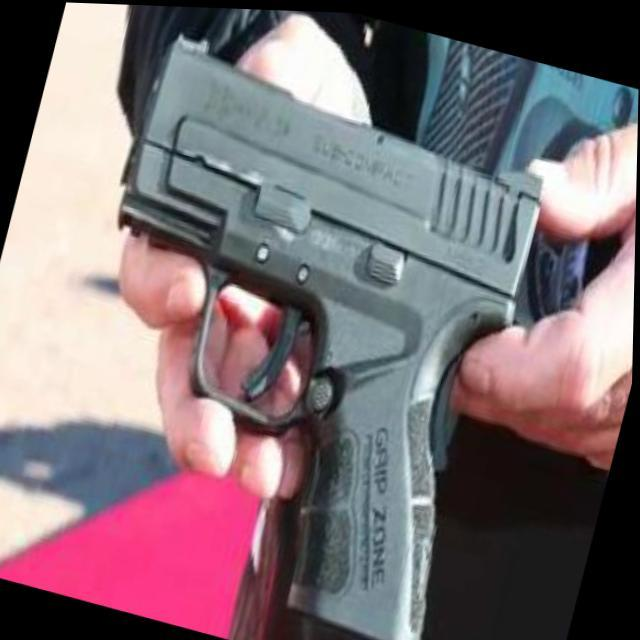weapon: (1, 4, 581, 640)
